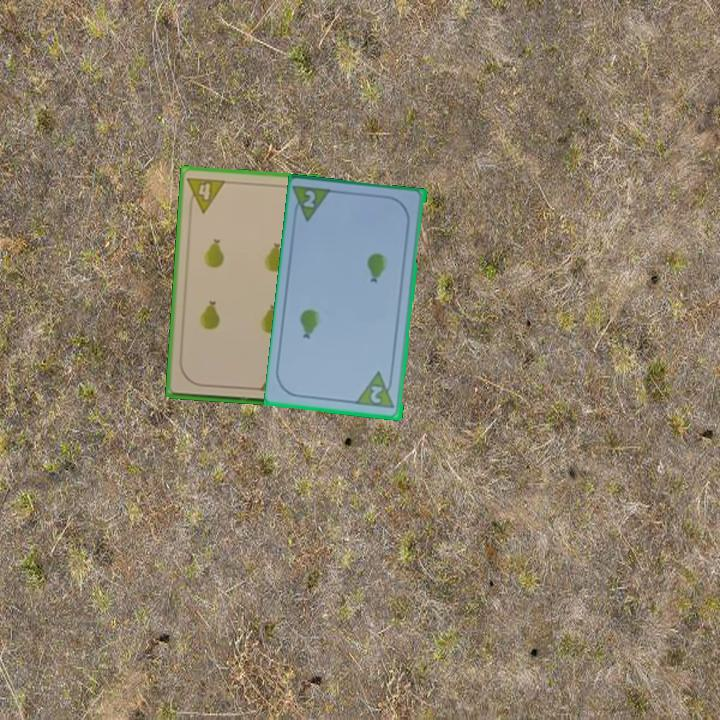2p: (290, 182, 336, 225), (367, 382, 386, 407)
4p: (184, 173, 228, 215)
